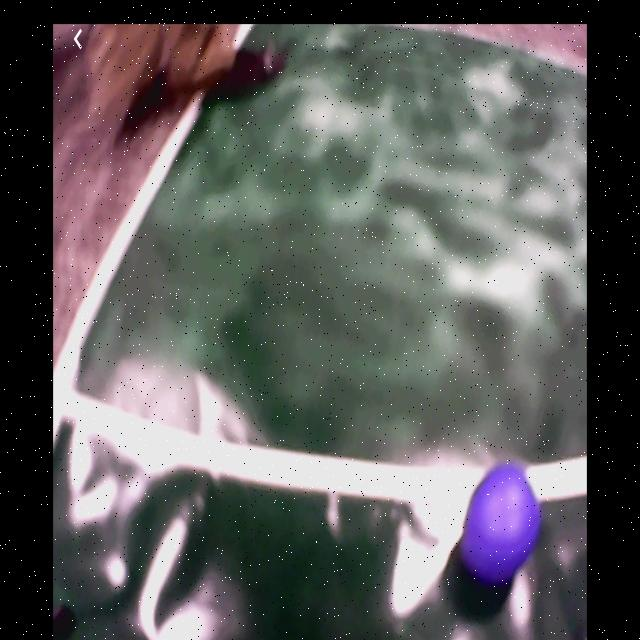ball: (460, 466, 538, 580)
